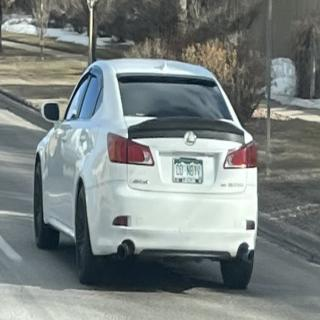license: (173, 158, 205, 185)
